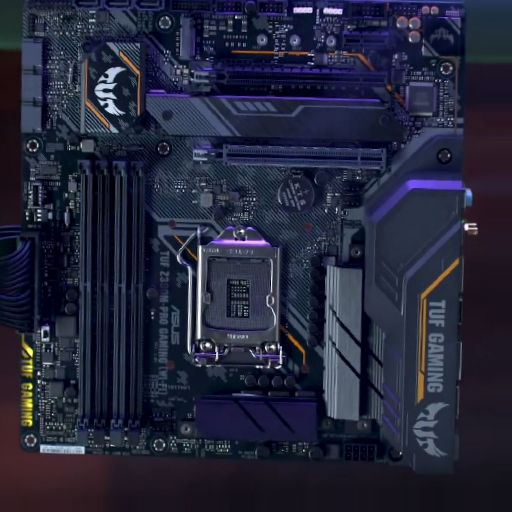CPU: (195, 224, 285, 368)
GPU: (189, 64, 389, 91), (190, 143, 389, 170)
MOTHERBOARD: (19, 2, 464, 466)
RAM: (74, 158, 147, 448)
SSD: (175, 16, 198, 62)
